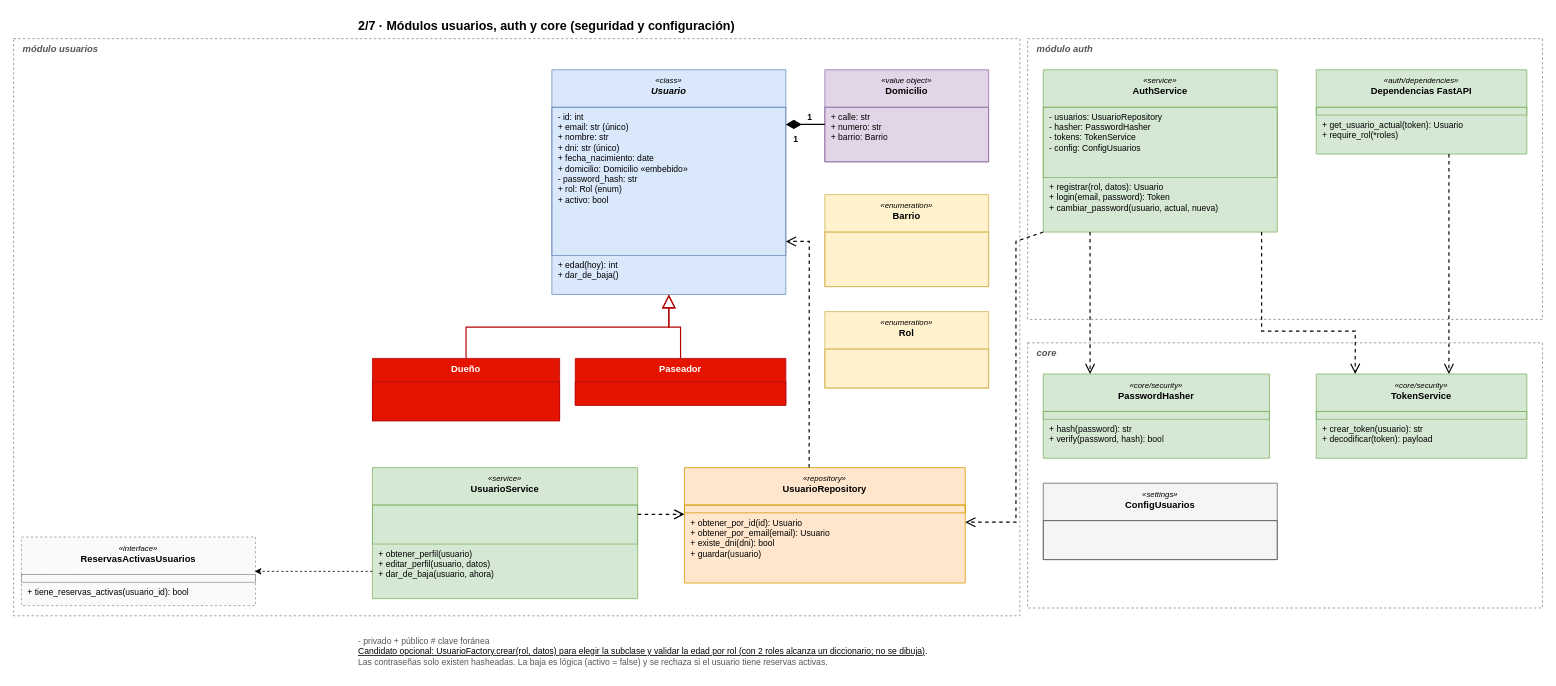
Image size: 1556x686. Some labels were removed from this diagram. The centre of each missing label's shape, as x and y in pixels:
+ edad_minima = 18 + edad_maxima = 99: the point at 1159,540
+ mascotas: List[Mascota] + reservas: List[Reserva]: the point at 466,401
+ reservas_aceptadas: List[Reserva]: the point at 680,393
- repo: UsuarioRepository - config: ConfigUsuarios: the point at 505,524
DUENO PASEADOR: the point at 906,368
PALERMO CABALLITO ... (48 barrios de CABA): the point at 906,259
